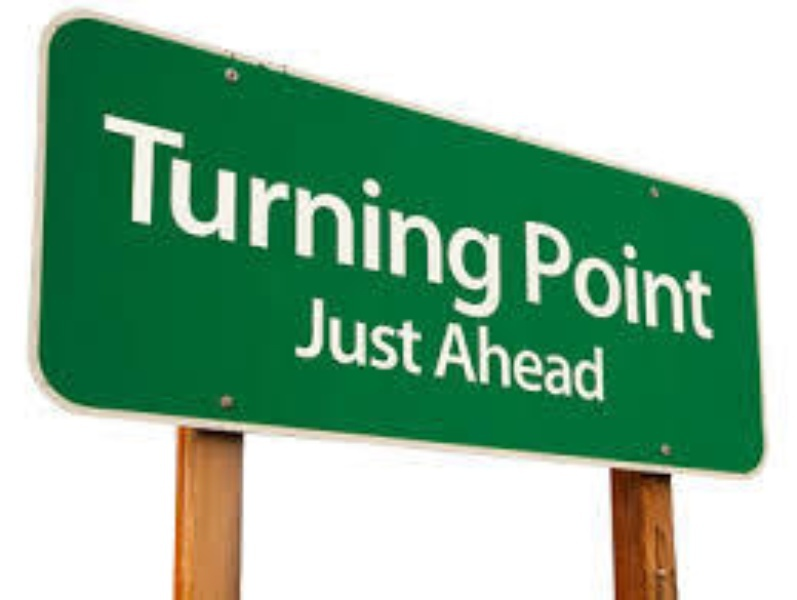text: (113, 105, 128, 327), (129, 105, 144, 327), (145, 105, 160, 327), (161, 105, 176, 327), (177, 105, 192, 327), (193, 105, 208, 327), (209, 105, 224, 327), (225, 105, 240, 327), (241, 105, 256, 327), (257, 105, 272, 327), (273, 105, 288, 327), (289, 105, 304, 327), (305, 105, 320, 327), (321, 105, 336, 327), (337, 105, 352, 327), (353, 105, 368, 327), (369, 105, 384, 327), (385, 105, 400, 327), (401, 105, 416, 327), (417, 105, 432, 327), (433, 105, 448, 327), (449, 105, 464, 327), (465, 105, 480, 327), (481, 105, 496, 327), (99, 105, 112, 327), (529, 213, 544, 342), (545, 213, 560, 342), (561, 213, 576, 342), (577, 213, 592, 342), (593, 213, 608, 342), (609, 213, 624, 342), (625, 213, 640, 342), (641, 213, 656, 342), (657, 213, 672, 342), (673, 213, 688, 342), (689, 213, 704, 342), (497, 105, 505, 327), (705, 213, 717, 342), (449, 314, 464, 404), (465, 314, 480, 404), (481, 314, 496, 404), (497, 314, 512, 404), (513, 314, 528, 404), (529, 314, 544, 404), (545, 314, 560, 404), (561, 314, 576, 404), (577, 314, 592, 404), (305, 290, 320, 376), (321, 290, 336, 376), (337, 290, 352, 376), (353, 290, 368, 376), (369, 290, 384, 376), (385, 290, 400, 376), (401, 290, 416, 376), (434, 314, 448, 404), (593, 314, 607, 404), (417, 290, 428, 376), (296, 290, 304, 376), (524, 213, 528, 342)
